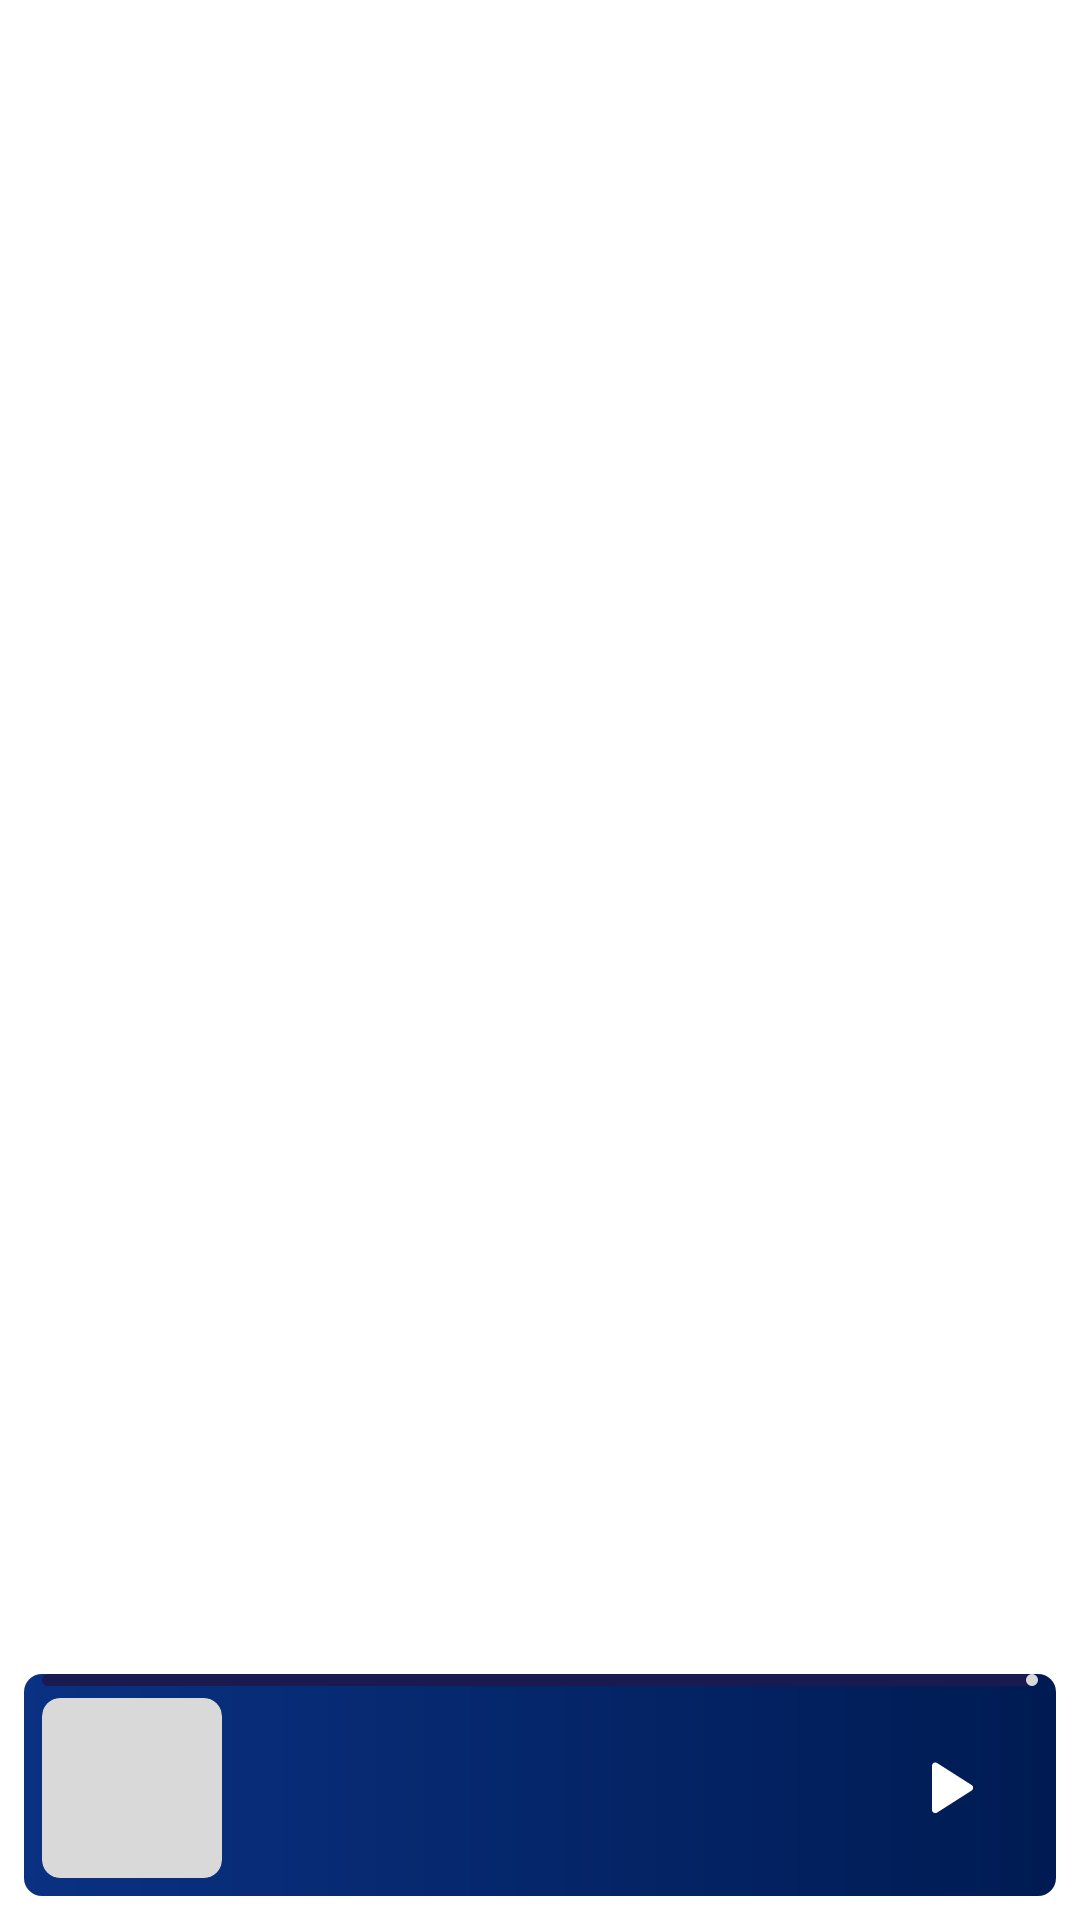

Where to tap for icons on this 1080px x 1920px app screen, as (x,y):
play: (952,1787)
